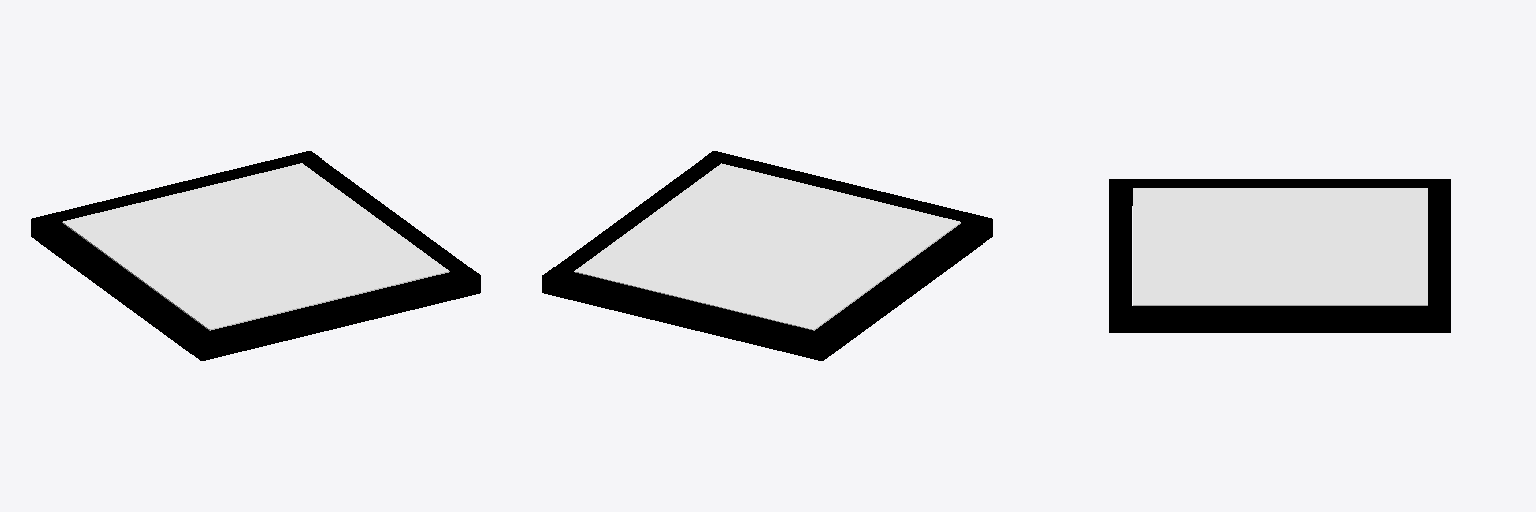
The model's file is light2.obj.
3 views of the same model, side by side, from view 1: azimuth 30°, elevation 25°; view 2: azimuth 150°, elevation 25°; view 3: azimuth 270°, elevation 25° (orthographic).
Size of the model in its own units: 3.12 by 0.2011 by 3.29.